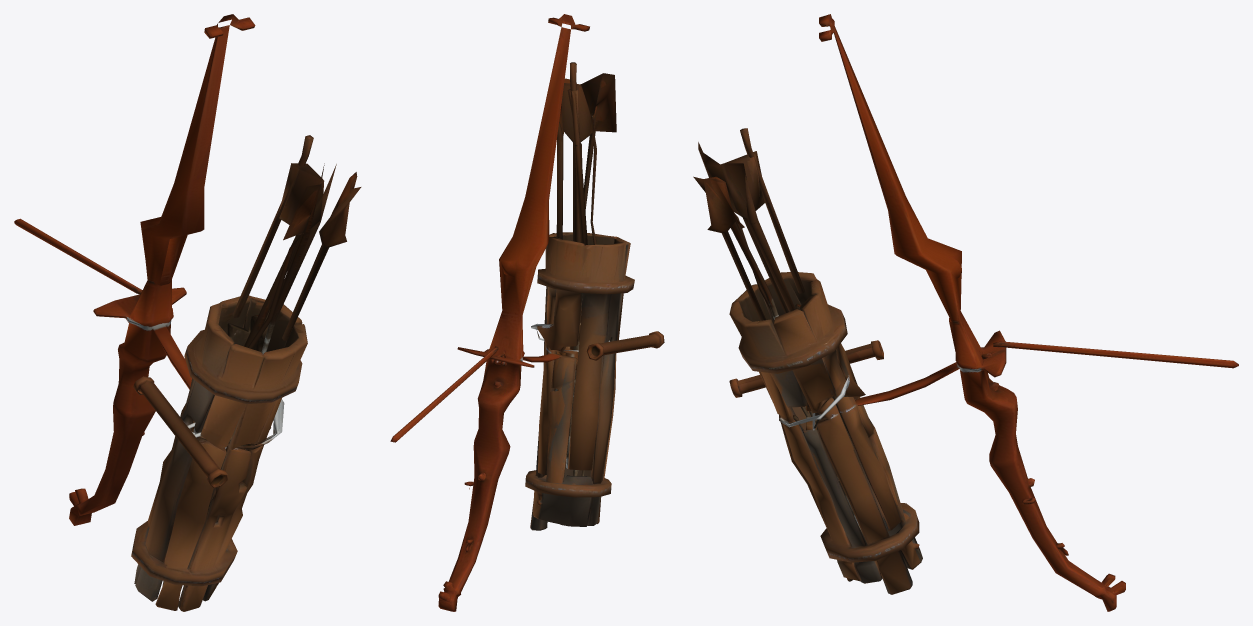
File: basic_bow.glb
3 views of the same model, side by side, from view 1: azimuth 30°, elevation 25°; view 2: azimuth 150°, elevation 25°; view 3: azimuth 270°, elevation 25° (orthographic). The views are drawn at different scales.
Parts seen in each view (by area): view 1: base_model_path; view 2: base_model_path; view 3: base_model_path.
Boxes of the visible parts, box(x1,y1,x2,y2) form: base_model_path: box(14, 14, 361, 611); base_model_path: box(390, 14, 664, 611); base_model_path: box(693, 14, 1238, 611).
Bounding box in the file's own units: 0.2386 × 0.9838 × 0.8215.
1 material, 1 textured.
